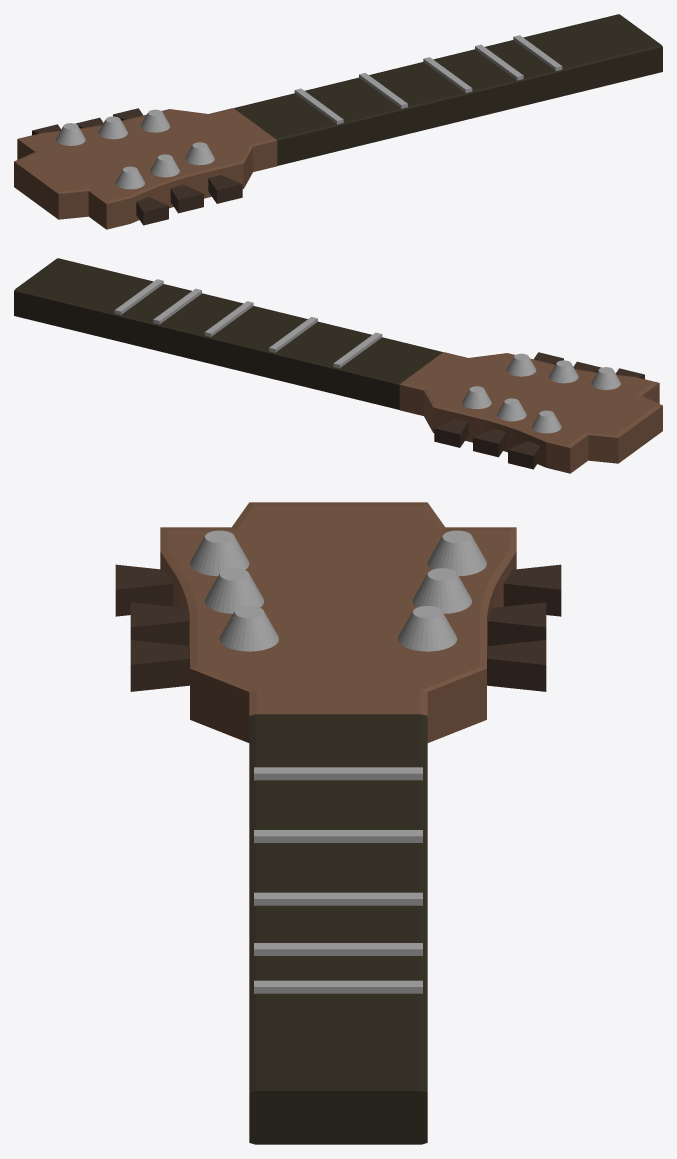
File: GuitarStage-0.fbx
3 views of the same model, one above another, from view 1: azimuth 30°, elevation 25°; view 2: azimuth 150°, elevation 25°; view 3: azimuth 270°, elevation 25° (orthographic). The views are drawn at different scales.
Parts seen in each view (by area): view 1: 立方体, Cube, 立方体.003, 立方体.002, 立方体.001, 円柱.005, 円柱, 円柱.001, 円柱.004, 円柱.003, 円柱.002, 立方体.008 (+4 smaller); view 2: 立方体, Cube, 立方体.004, 立方体.005, 立方体.006, 円柱.002, 円柱.003, 円柱.001, 円柱.004, 円柱, 円柱.005, 立方体.008 (+4 smaller); view 3: 立方体, Cube, 立方体.003, 立方体.004, 立方体.007, 立方体.008, 立方体.011, 立方体.001, 立方体.006, 立方体.002, 立方体.005, 立方体.009 (+7 smaller).
Boxes of the visible parts, bbox=[...] form: 立方体: bbox=[233, 14, 662, 165]; Cube: bbox=[14, 108, 277, 229]; 立方体.003: bbox=[208, 175, 242, 203]; 立方体.002: bbox=[170, 184, 203, 213]; 立方体.001: bbox=[136, 197, 168, 225]; 円柱.005: bbox=[115, 166, 144, 189]; 円柱: bbox=[140, 109, 170, 132]; 円柱.001: bbox=[98, 116, 127, 139]; 円柱.004: bbox=[150, 154, 179, 177]; 円柱.003: bbox=[185, 142, 214, 165]; 円柱.002: bbox=[56, 123, 85, 145]; 立方体.008: bbox=[294, 88, 343, 124]; 立方体: bbox=[14, 258, 443, 409]; Cube: bbox=[399, 352, 662, 473]; 立方体.004: bbox=[434, 419, 468, 447]; 立方体.005: bbox=[473, 428, 506, 457]; 立方体.006: bbox=[508, 441, 540, 469]; 円柱.002: bbox=[532, 410, 561, 433]; 円柱.003: bbox=[506, 353, 536, 376]; 円柱.001: bbox=[497, 398, 526, 421]; 円柱.004: bbox=[549, 360, 578, 383]; 円柱: bbox=[462, 386, 491, 409]; 円柱.005: bbox=[591, 367, 620, 389]; 立方体.008: bbox=[333, 332, 382, 368]; 立方体: bbox=[249, 714, 427, 1144]; Cube: bbox=[160, 502, 516, 742]; 立方体.003: bbox=[130, 640, 189, 691]; 立方体.004: bbox=[487, 640, 546, 691]; 立方体.007: bbox=[254, 892, 422, 905]; 立方体.008: bbox=[254, 767, 422, 780]; 立方体.011: bbox=[254, 980, 422, 993]; 立方体.001: bbox=[115, 564, 173, 616]; 立方体.006: bbox=[503, 564, 561, 616]; 立方体.002: bbox=[130, 602, 188, 645]; 立方体.005: bbox=[488, 602, 546, 645]; 立方体.009: bbox=[254, 830, 422, 843].
Size of the model in its own units: 4700 by 300 by 1500.
